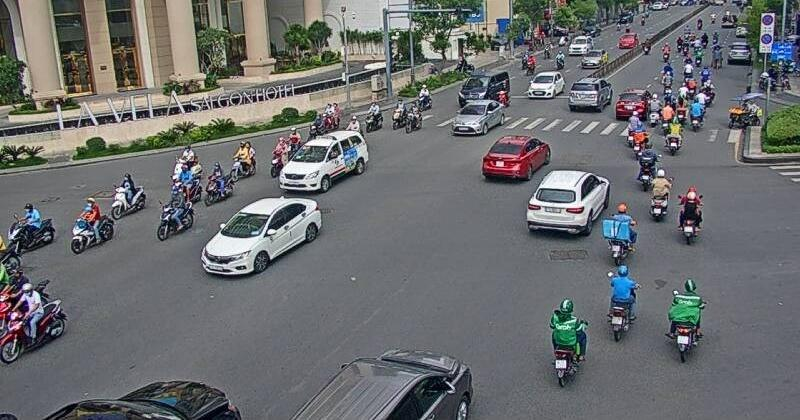xe hoi: (293, 350, 471, 420), (200, 198, 321, 276), (279, 129, 368, 192), (526, 170, 608, 236), (481, 136, 551, 181), (452, 99, 505, 135), (568, 77, 612, 110), (615, 88, 651, 121)
xe may: (0, 282, 67, 364), (664, 278, 708, 363), (548, 299, 588, 387), (606, 265, 642, 342), (70, 197, 114, 254), (8, 202, 55, 250), (603, 203, 637, 265), (156, 189, 193, 241), (111, 172, 147, 220), (678, 185, 703, 246), (202, 161, 233, 207), (648, 169, 672, 221), (229, 141, 257, 181), (637, 142, 658, 193), (664, 116, 683, 154), (364, 100, 384, 132), (404, 100, 423, 133), (390, 97, 406, 130)
xe van: (458, 70, 511, 106)
